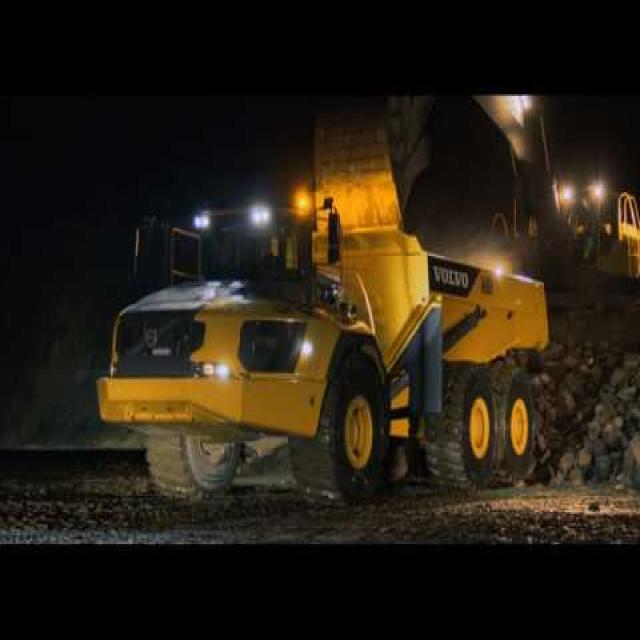dump_truck: (88, 188, 569, 491)
